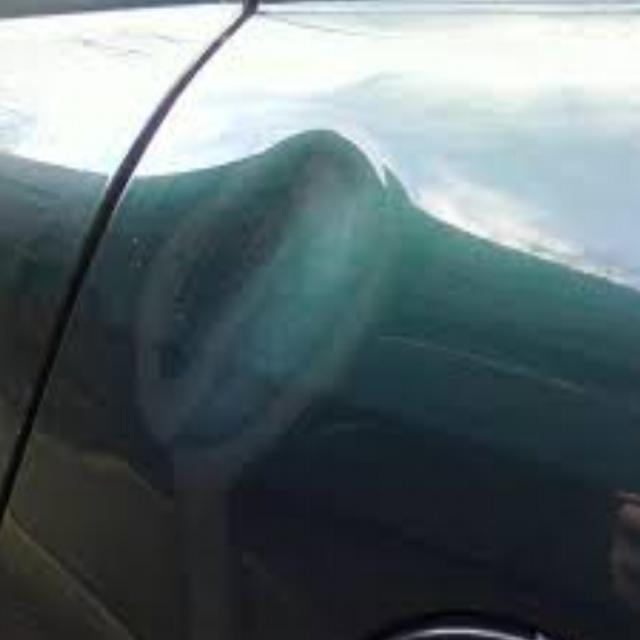dents: (139, 125, 382, 494)
